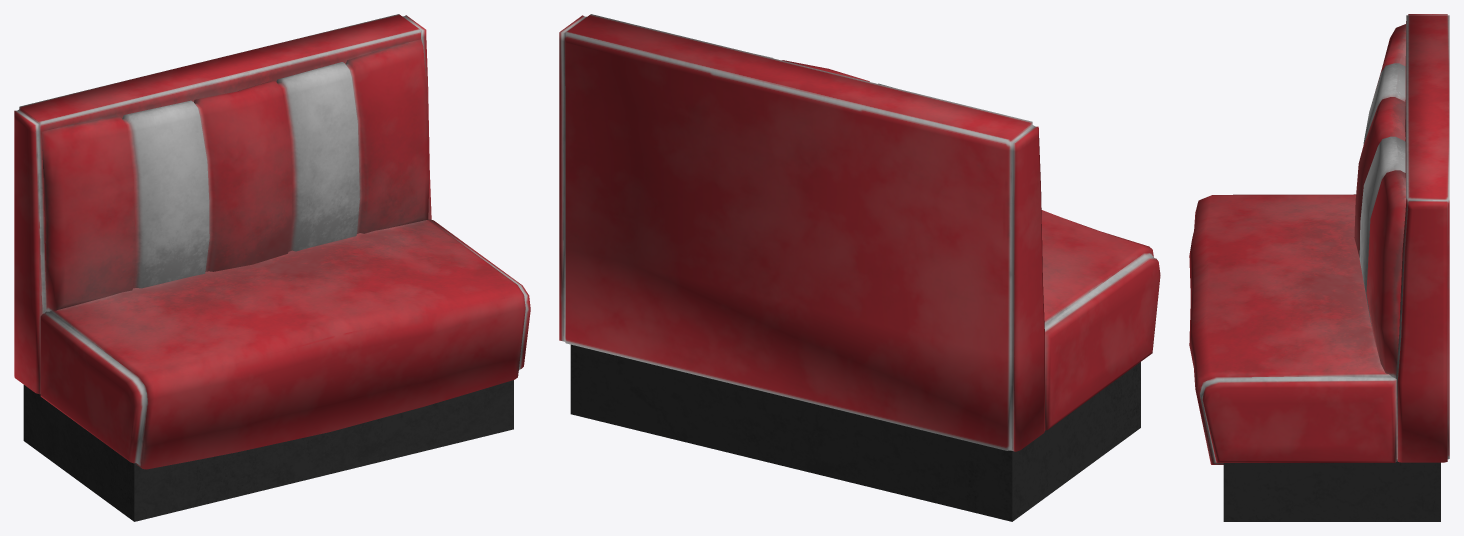
Rendered from TMM_Booth.fbx.
3 views of the same model, side by side, from view 1: azimuth 30°, elevation 25°; view 2: azimuth 150°, elevation 25°; view 3: azimuth 270°, elevation 25° (orthographic). The views are drawn at different scales.
Parts seen in each view (by area): view 1: TMM_Booth; view 2: TMM_Booth; view 3: TMM_Booth.
Part boxes in pixels (box(x1,y1,x2,y2)): TMM_Booth: box(14, 14, 530, 521); TMM_Booth: box(559, 14, 1160, 521); TMM_Booth: box(1189, 14, 1449, 521).
Bounding box in the file's own units: 200 × 160 × 116.
